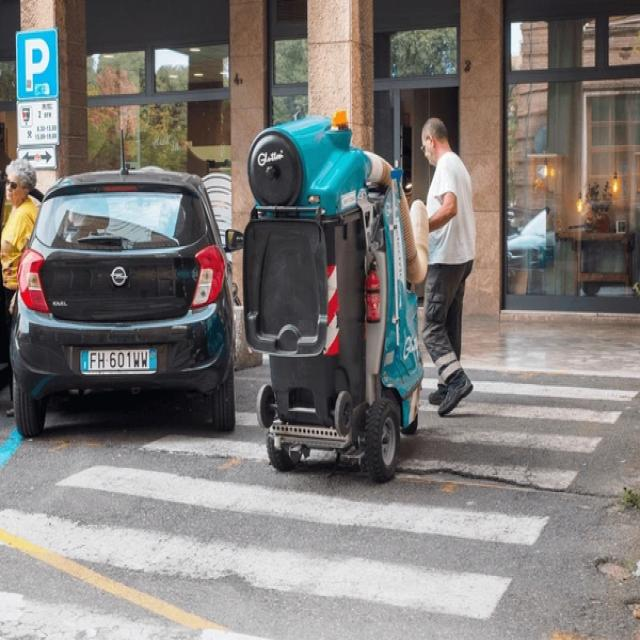opel: (107, 266, 130, 287)
